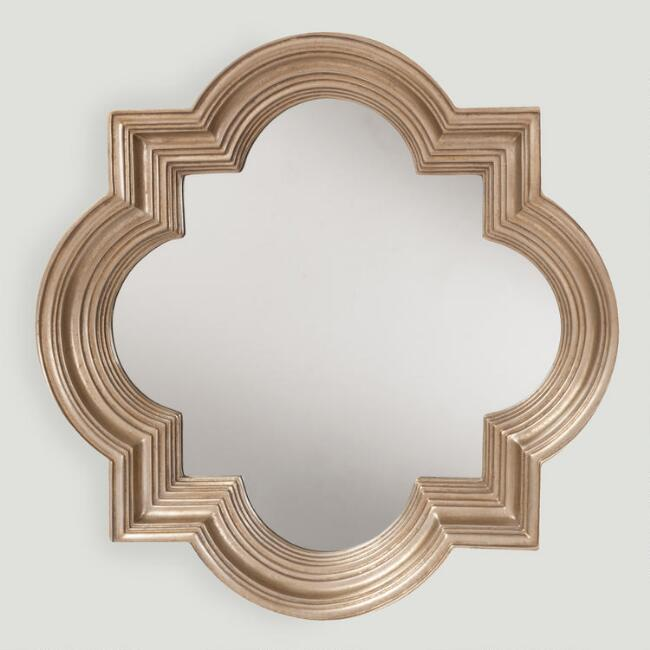Nonrec_Glass: (26, 20, 621, 617)
